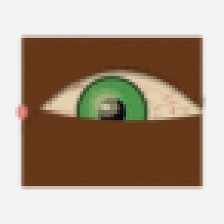corneal_ulcer: (87, 90, 125, 121)
